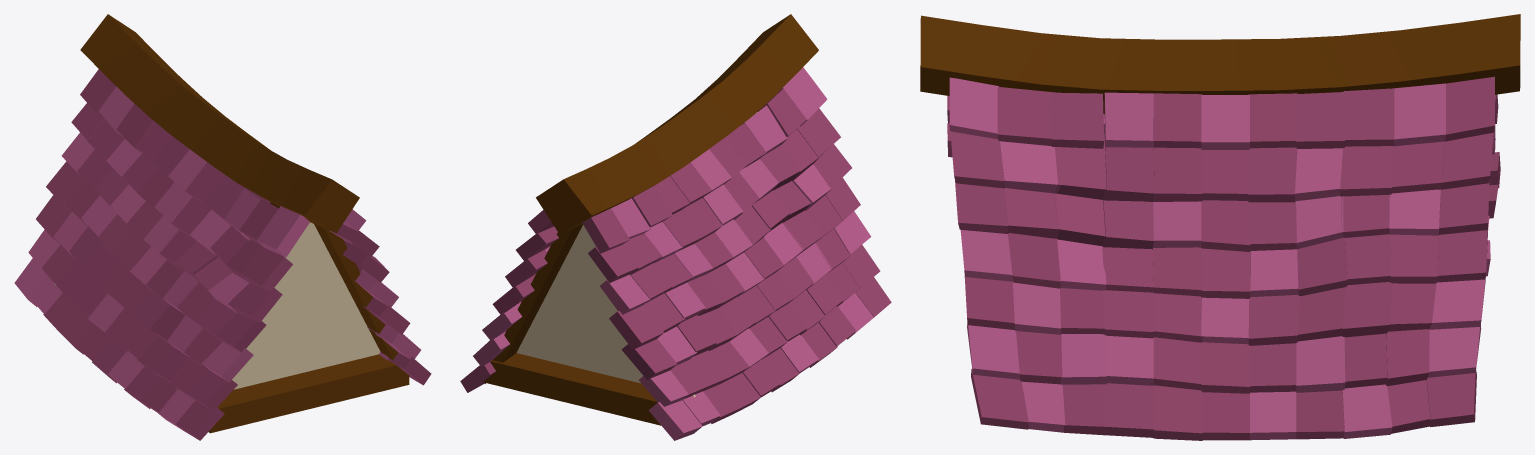
The model's file is Roof.fbx.
3 views of the same model, side by side, from view 1: azimuth 30°, elevation 25°; view 2: azimuth 150°, elevation 25°; view 3: azimuth 270°, elevation 25° (orthographic). The views are drawn at different scales.
Parts seen in each view (by area): view 1: pCube24, pCube123, pCube124, pCube126, polySurface301, polySurface290, polySurface279, polySurface246, polySurface257, polySurface268, polySurface235, polySurface293 (+75 smaller); view 2: pCube24, pCube129, pCube128, pCube131, polySurface258, polySurface225, polySurface247, polySurface291, polySurface301, polySurface269, polySurface290, polySurface299 (+75 smaller); view 3: pCube24, polySurface377, polySurface369, polySurface370, polySurface376, polySurface378, polySurface375, polySurface371, polySurface373, polySurface372, polySurface363, polySurface360 (+66 smaller).
Part boxes in pixels (<box>): pCube24: <box>80,14,359,233</box>; pCube123: <box>232,222,380,389</box>; pCube124: <box>209,354,409,433</box>; pCube126: <box>314,224,398,359</box>; polySurface301: <box>256,206,309,257</box>; polySurface290: <box>240,246,292,292</box>; polySurface279: <box>228,283,282,323</box>; polySurface246: <box>186,370,237,410</box>; polySurface257: <box>201,342,253,382</box>; polySurface268: <box>216,313,266,352</box>; polySurface235: <box>175,400,224,440</box>; polySurface293: <box>116,104,155,153</box>; pCube24: <box>536,14,818,234</box>; pCube129: <box>516,225,695,397</box>; pCube128: <box>483,353,660,425</box>; pCube131: <box>493,224,582,362</box>; polySurface258: <box>609,305,663,350</box>; polySurface225: <box>648,400,702,440</box>; polySurface247: <box>621,339,677,379</box>; polySurface291: <box>582,208,629,253</box>; polySurface301: <box>777,67,827,126</box>; polySurface269: <box>600,274,650,314</box>; polySurface290: <box>797,108,840,157</box>; polySurface299: <box>742,105,788,154</box>; pCube24: <box>920,14,1520,114</box>; polySurface377: <box>1394,83,1445,146</box>; polySurface369: <box>997,87,1055,145</box>; polySurface370: <box>1050,92,1104,148</box>; polySurface376: <box>1343,88,1394,146</box>; polySurface378: <box>1445,76,1494,141</box>; polySurface375: <box>1296,92,1344,148</box>; polySurface371: <box>1104,92,1153,147</box>; polySurface373: <box>1201,95,1249,149</box>; polySurface372: <box>1153,93,1202,148</box>; polySurface363: <box>1248,147,1297,202</box>; polySurface360: <box>1103,147,1154,201</box>.
Size of the model in its own units: 23.03 by 23.32 by 36.18.
